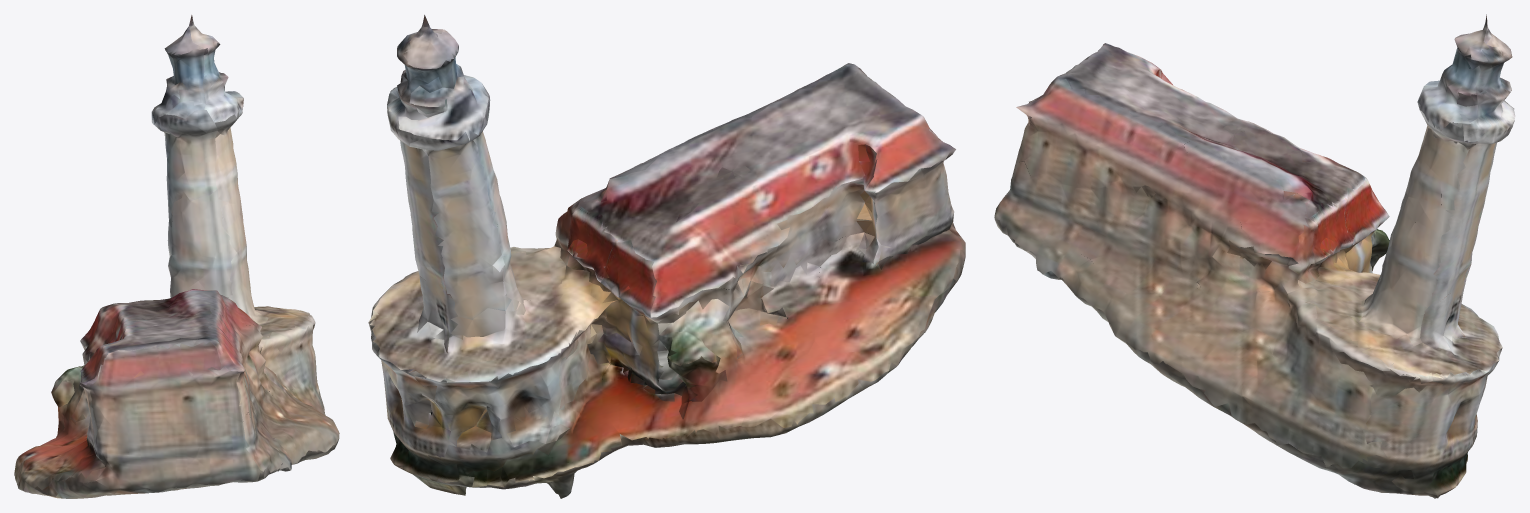
The model's file is hai_dang_sf3d_local.glb.
3 renders of one model, left to right at view 1: azimuth 30°, elevation 25°; view 2: azimuth 150°, elevation 25°; view 3: azimuth 270°, elevation 25°, orthographic. The views are drawn at different scales.
Visible parts, largest first — view 1: geometry_0; view 2: geometry_0; view 3: geometry_0.
Part boxes in pixels (<box>): geometry_0: <box>14,15,339,498</box>; geometry_0: <box>368,15,965,498</box>; geometry_0: <box>994,14,1515,498</box>.
Size of the model in its own units: 0.6739 by 0.753 by 0.7502.
Materials: 1 (1 with a texture image).
